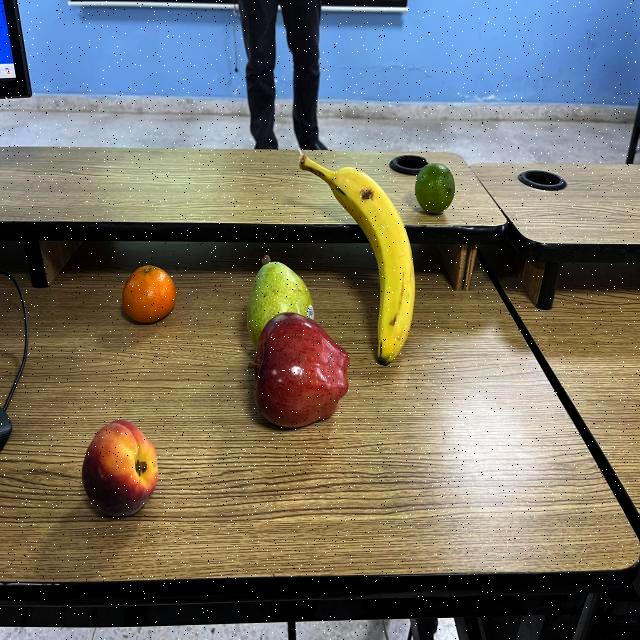Apel Merah: (245, 312, 352, 430)
Jeruk Mandarin: (118, 260, 179, 328)
Lemon: (413, 161, 456, 222)
Persik: (80, 417, 160, 521)
Pir: (247, 254, 316, 356)
Pisang: (298, 152, 418, 370)
